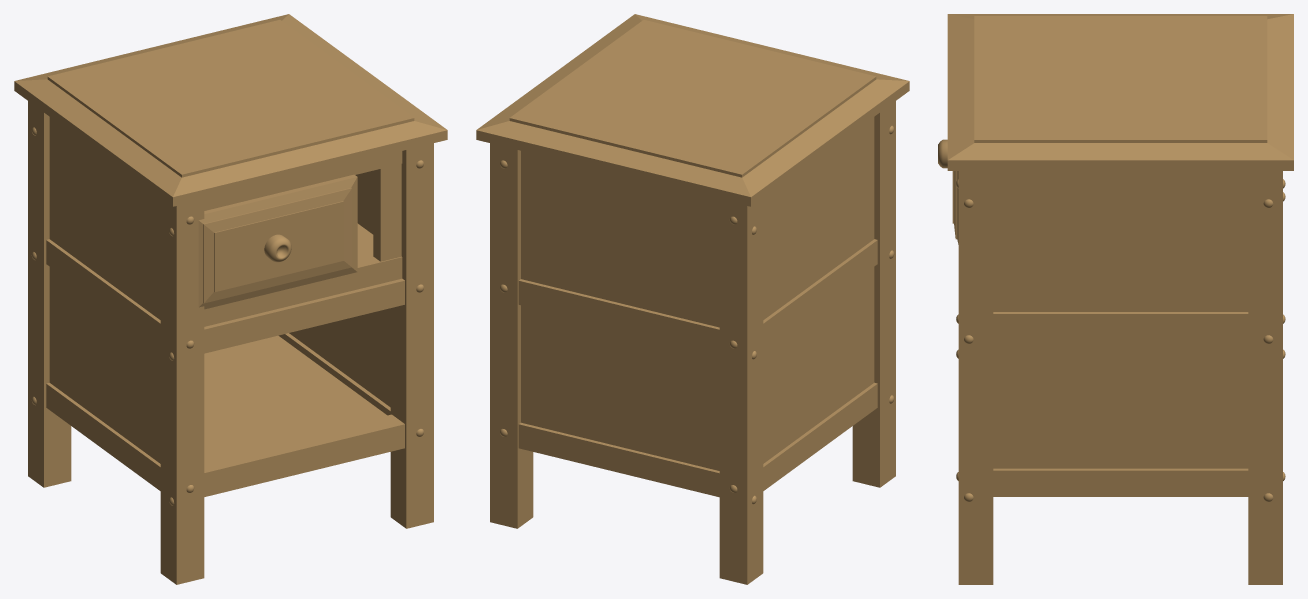
The model's file is storage8.obj.
3 views of the same model, side by side, from view 1: azimuth 30°, elevation 25°; view 2: azimuth 150°, elevation 25°; view 3: azimuth 270°, elevation 25° (orthographic). The views are drawn at different scales.
Parts seen in each view (by area): view 1: storage8; view 2: storage8; view 3: storage8.
Boxes of the visible parts, box(x1,y1,x2,y2) form: storage8: box(14, 14, 447, 584); storage8: box(476, 14, 909, 584); storage8: box(938, 14, 1293, 584).
Bounding box in the file's own units: 2.39 × 3.34 × 2.46.
